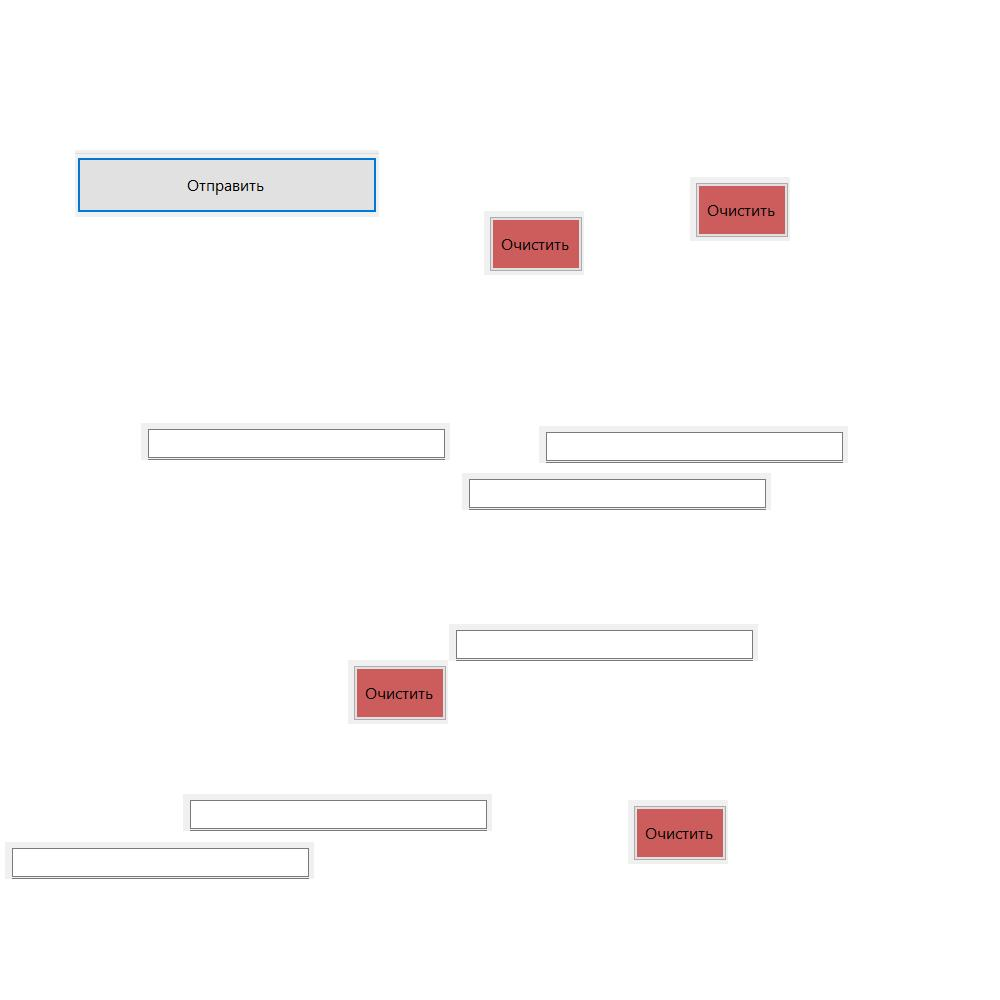Button: (75, 150, 379, 217), (484, 211, 584, 275), (348, 660, 448, 724), (690, 177, 790, 241), (628, 800, 728, 864)
EditText-: (449, 624, 758, 661), (462, 473, 771, 510), (183, 794, 492, 831), (141, 423, 450, 460), (5, 842, 314, 879), (539, 426, 848, 463)
